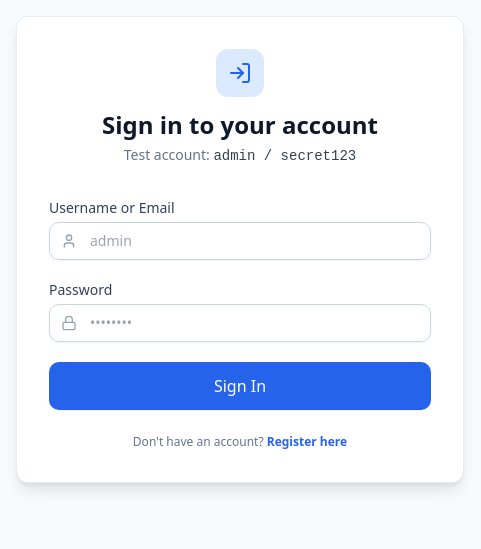
Test case: LoginPage & Form Validation › displays client-side Zod validation errors on empty submission
Step 1. Click the button "Sign In" → (240, 386), box [49,362,431,410]
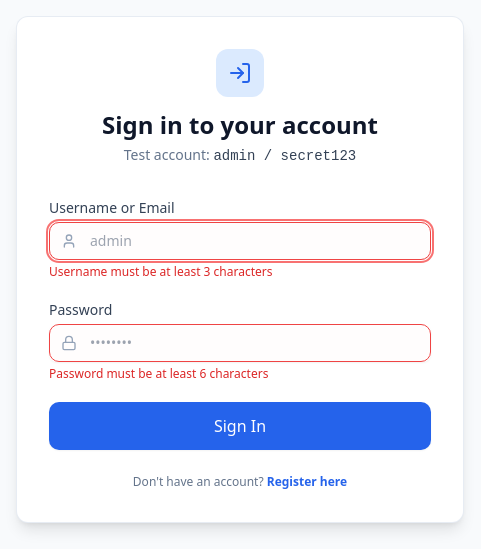
Check: the text "Username must be at least 3 characters" is shown, box [49,263,272,280]
Check: the text "Password must be at least 6 characters" is shown, box [49,365,268,382]
